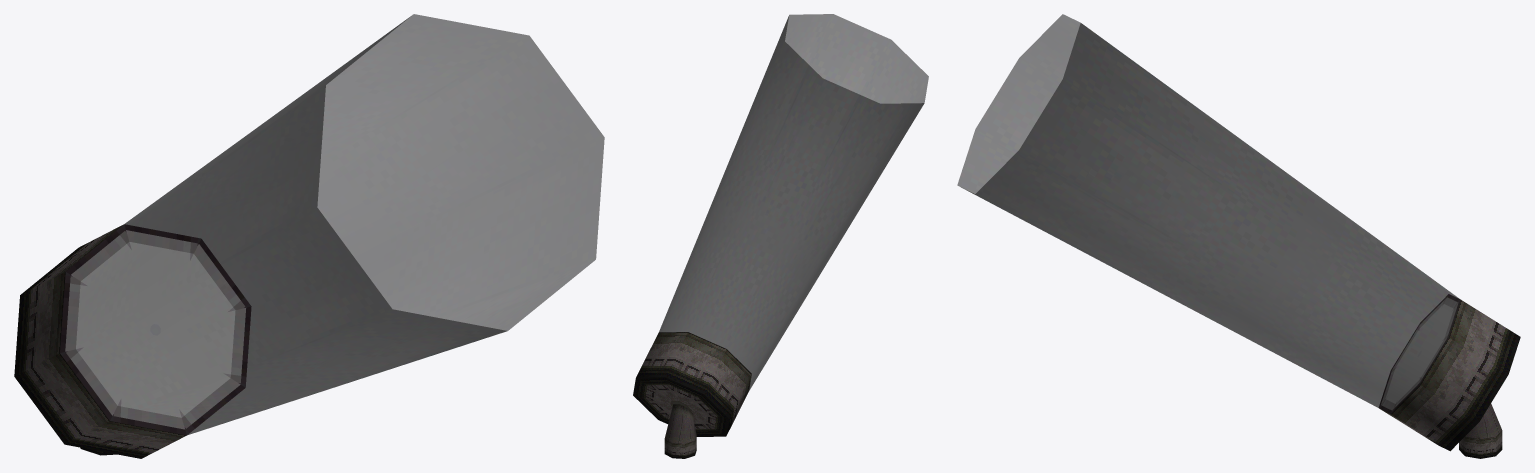
3 renders of one model, left to right at view 1: azimuth 30°, elevation 25°; view 2: azimuth 150°, elevation 25°; view 3: azimuth 270°, elevation 25°, orthographic. The views are drawn at different scales.
Visible parts, largest first — view 1: Conft_obj_064; view 2: Conft_obj_064; view 3: Conft_obj_064.
Part boxes in pixels (x1=…): Conft_obj_064: x1=14, y1=14, x2=604, y2=458; Conft_obj_064: x1=633, y1=14, x2=928, y2=458; Conft_obj_064: x1=957, y1=14, x2=1520, y2=458.
Bounding box in the file's own units: 1.89 × 4.09 × 4.89.
Materials: 3 (3 with a texture image).
